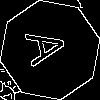A: (25, 25, 77, 68)
